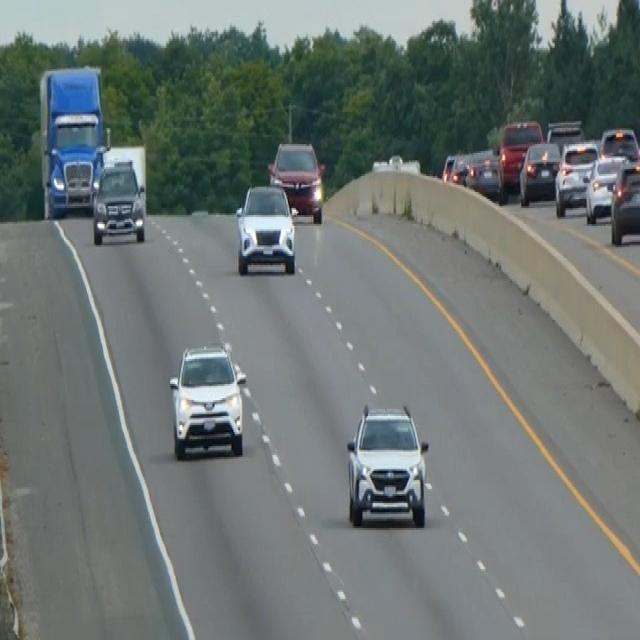car: (167, 338, 247, 460), (234, 180, 297, 276), (91, 155, 146, 245), (267, 137, 325, 222), (554, 139, 599, 215), (497, 118, 543, 190), (584, 151, 626, 224), (518, 139, 561, 206), (609, 157, 639, 246), (464, 147, 503, 201), (599, 124, 639, 162), (545, 117, 584, 155), (448, 151, 471, 185), (440, 151, 456, 183)
jeep: (344, 400, 430, 528)
lorry: (37, 62, 110, 220)
